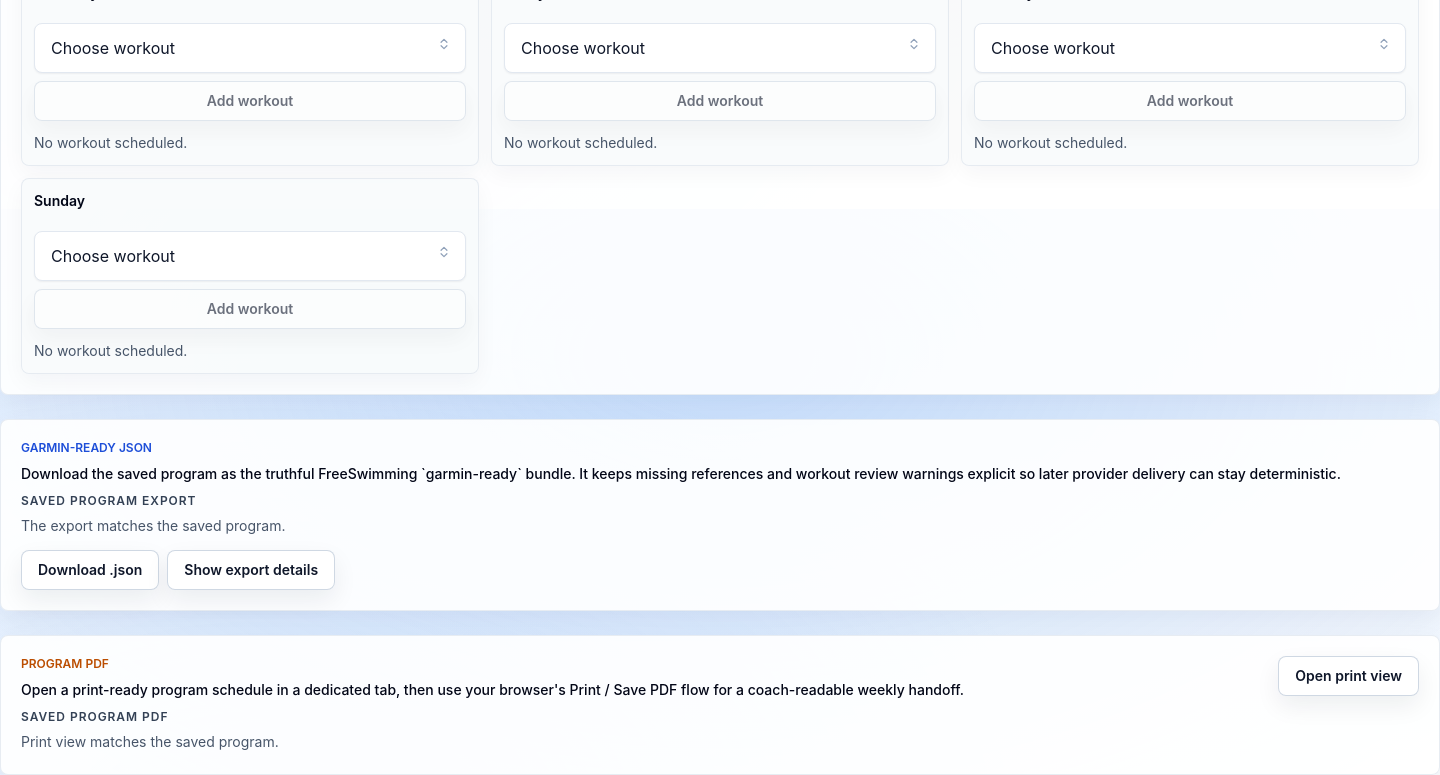
ProgramBuilderHub › retries the canonical export preview once after a transient session failure
(page scrolled)
Click the button with test id "program-editor-garmin-export-details-toggle".
click(251, 570)  # box [167, 550, 335, 590]
(page scrolled)
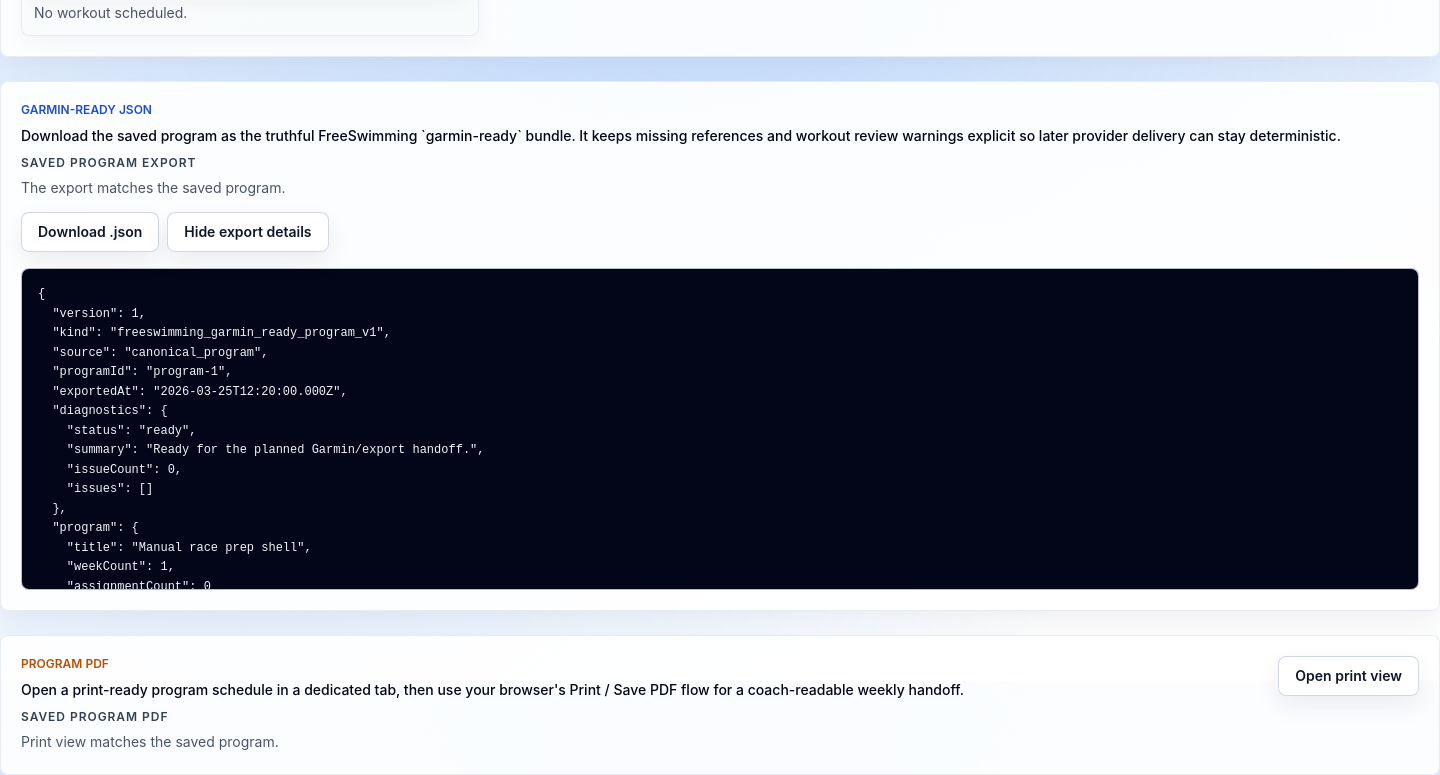
Check: the text with test id "program-editor-garmin-export-preview" shows "\"kind\": \"freeswimming_garmin_ready_program_v1\"", box [38, 287, 484, 590]
